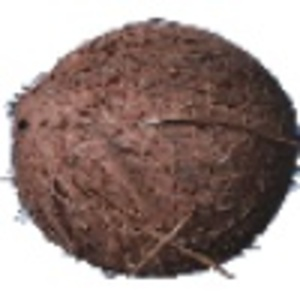coco: (6, 19, 300, 279)
